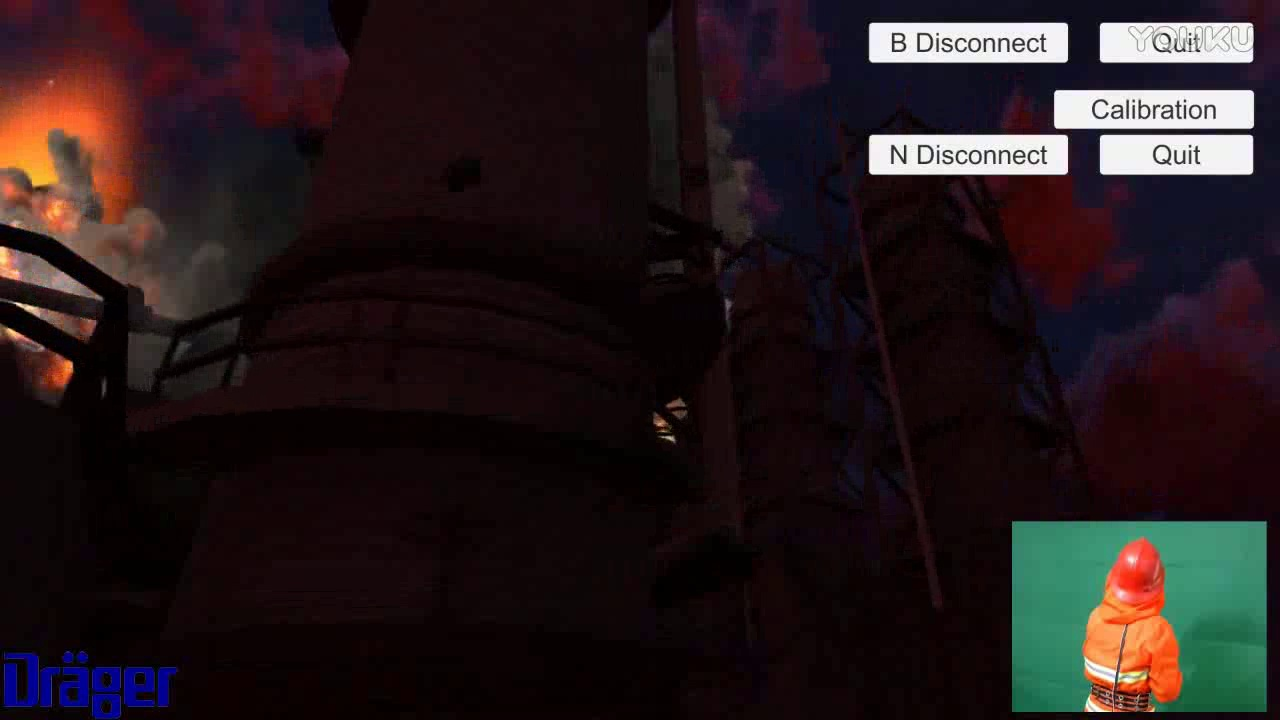fire: (1, 43, 167, 248)
